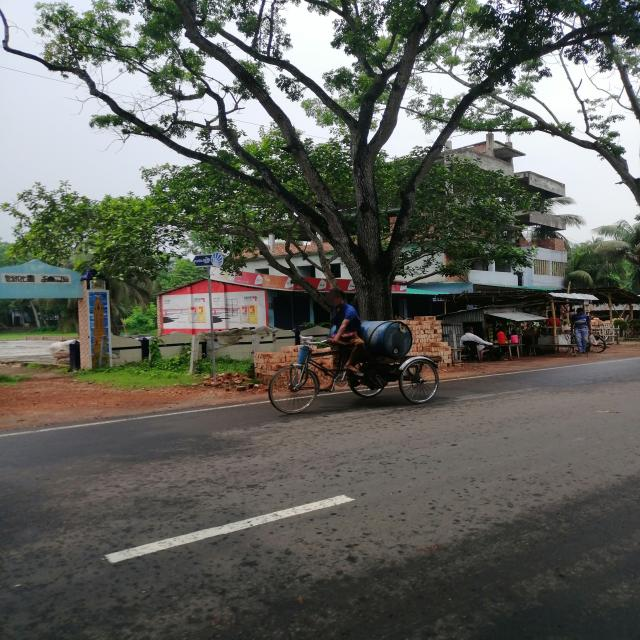Van: (252, 334, 457, 418)
